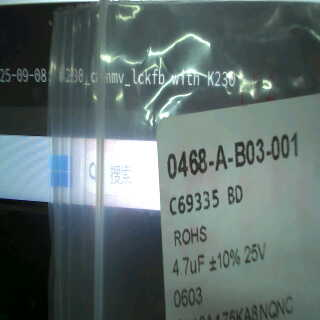4.7uF: (171, 252, 206, 280)
